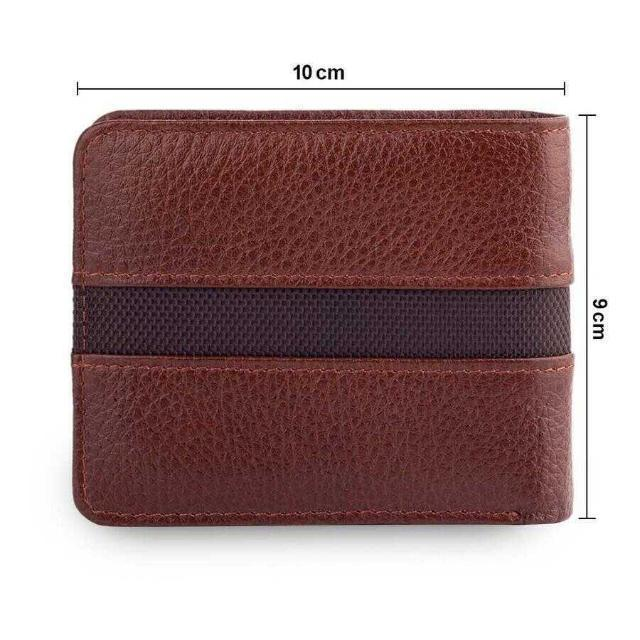wallet: (66, 102, 578, 538)
